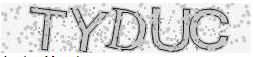C: (189, 7, 231, 54)
D: (107, 6, 148, 54)
T: (28, 4, 69, 53)
U: (150, 5, 191, 53)
Y: (68, 5, 109, 55)
